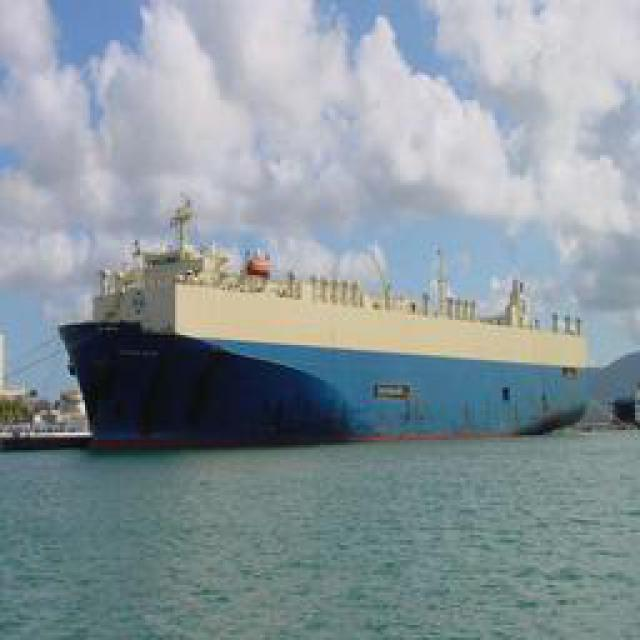Ship: (55, 255, 610, 443)
